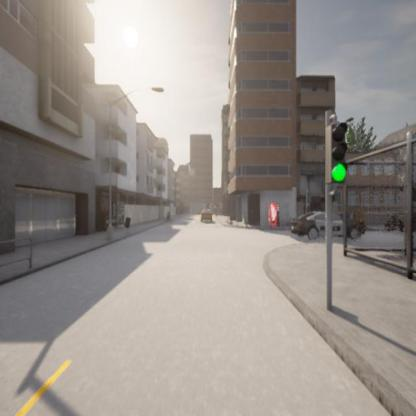traffic_light_green: (330, 121, 349, 181)
vehicle: (291, 210, 345, 239), (200, 207, 212, 223)
